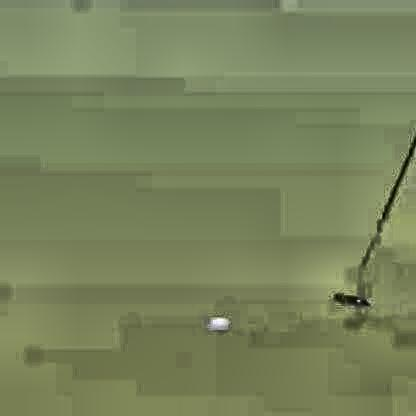golfball: (207, 314, 227, 329)
